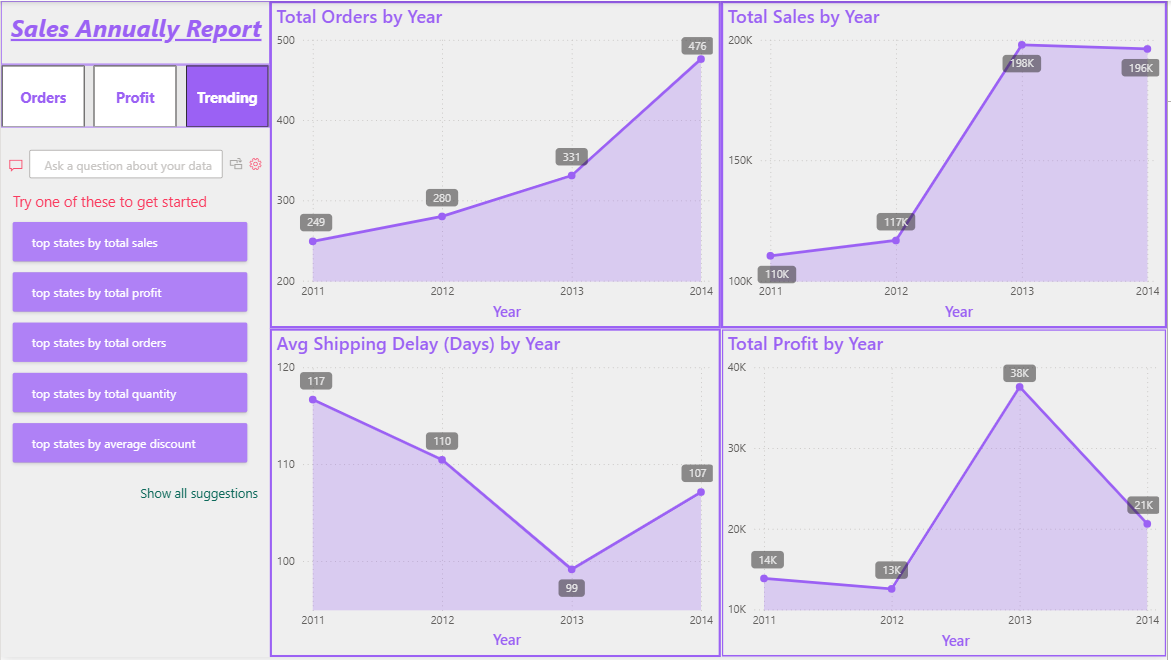

The page's visual inventory and layout, read from the dashboard file:
{"tool":"powerbi","page":{"name":"Trending","canvas":[1280,720],"ordinal":2},"visuals":[{"type":"areaChart","fields":{"Category":["Order_Data.Order Date.Variation.Date Hierarchy.Year"],"Y":["#Measurs.Total Profit"]},"box":[790.4,359.5,489.9,360.9],"z":0},{"type":"areaChart","fields":{"Category":["Order_Data.Order Date.Variation.Date Hierarchy.Year"],"Y":["#Measurs.Total Sales"]},"box":[790.4,0,489.9,359.5],"z":1000},{"type":"areaChart","fields":{"Category":["Order_Data.Order Date.Variation.Date Hierarchy.Year"],"Y":["#Measurs.Total Orders"]},"box":[295,0,495.4,359.5],"z":2000},{"type":"areaChart","fields":{"Category":["Order_Data.Order Date.Variation.Date Hierarchy.Year"],"Y":["#Measurs.Avg Shipping Delay (Days)"]},"box":[295,359.5,495.4,360.9],"z":3000},{"type":"qnaVisual","box":[0,138.6,295,581.8],"z":4000},{"type":"pageNavigator","box":[0,70,295,68.6],"z":5000},{"type":"textbox","box":[0,0,295,70],"z":6000}]}

Visuals, with their boxes in screenshot pixels (x1, y1, x2, y2), scaled from the page's 1280x720 canvas onto the 1171x660 screenshot:
areaChart - Order_Data.Order Date.Variation.Date Hierarchy.Year x #Measurs.Total Profit: detection(723, 330, 1170, 659)
areaChart - Order_Data.Order Date.Variation.Date Hierarchy.Year x #Measurs.Total Sales: detection(723, 0, 1170, 330)
areaChart - Order_Data.Order Date.Variation.Date Hierarchy.Year x #Measurs.Total Orders: detection(270, 0, 723, 330)
areaChart - Order_Data.Order Date.Variation.Date Hierarchy.Year x #Measurs.Avg Shipping Delay (Days): detection(270, 330, 723, 659)
qnaVisual: detection(0, 127, 270, 659)
pageNavigator: detection(0, 64, 270, 127)
textbox: detection(0, 0, 270, 64)
